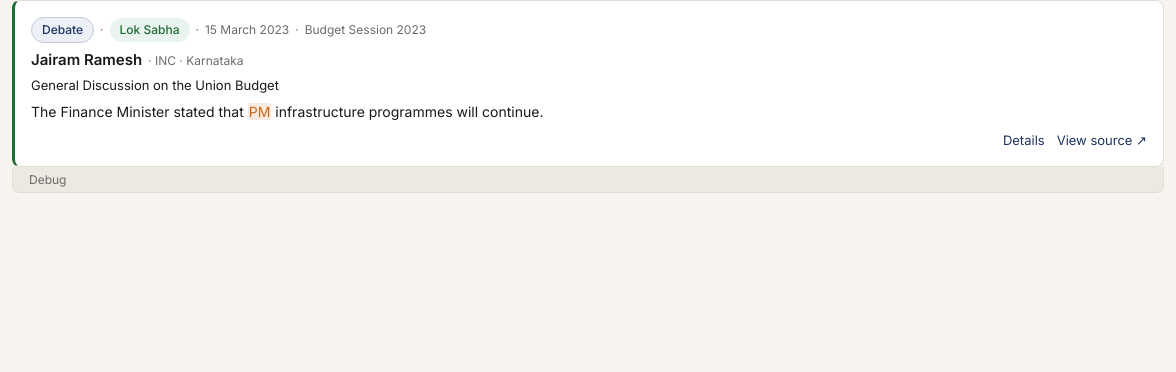
ResultCard — debug mode renders debug panel › panel opens when Debug toggle is clicked
Click the button with test id "debug-panel-toggle" at (48, 180), box [12,167,1164,193]
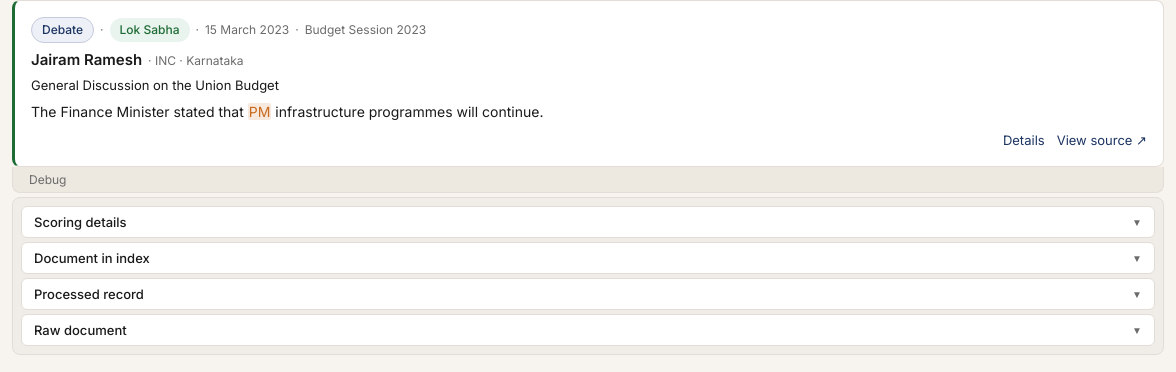
Now the element with test id "result-debug-panel" is shown, box [12,197,1164,355]
